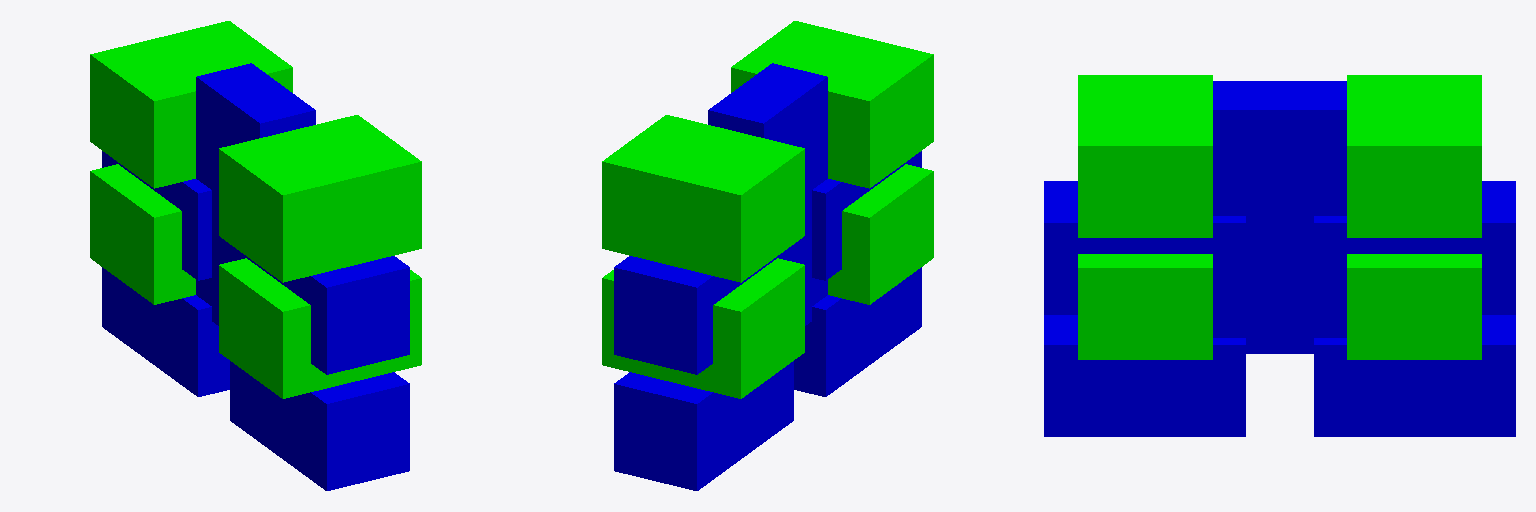
URDF robot description (robot):
<robot name = "robot">
    <link name="root">
        <inertial>
            <origin xyz="0.0 0.0 1.5" rpy="0 0 0"/>
            <mass value="1" />
            <inertia ixx="100" ixy="0" ixz="0" iyy="100" iyz="0" izz="100" />
        </inertial>
        <visual>
            <origin xyz="0.0 0.0 1.5" rpy="0 0 0"/>
            <geometry>
                <box size="0 0 0.0001" />
            </geometry>
            <material name="Green">
                <color rgba="0 1.0 0.0 1.0"/>
            </material>
        </visual>
        <collision>
            <origin xyz="0.0 0.0 1.5" rpy="0 0 0"/>
            <geometry>
                <box size="0 0 0.0001" />
            </geometry>
        </collision>
    </link>
    <joint name="root_000" type="revolute">
       <parent link="root"/>
       <child  link="000"/>
       <origin rpy="0 0 0" xyz="0.0 0.0 1.5" />
     <axis xyz="1 0 0"/>
       <limit effort="0.0" lower="-3.14159" upper="3.14159" velocity="0.0"/>
    </joint>
    <link name="000">
        <inertial>
            <origin xyz="0.0 0.0 -0.2" rpy="0 0 0"/>
            <mass value="1" />
            <inertia ixx="100" ixy="0" ixz="0" iyy="100" iyz="0" izz="100" />
        </inertial>
        <visual>
            <origin xyz="0.0 0.0 -0.2" rpy="0 0 0"/>
            <geometry>
                <box size="0.2 0.4 0.4" />
            </geometry>
            <material name="Blue">
                <color rgba="0 0.0 1.0 1.0"/>
            </material>
        </visual>
        <collision>
            <origin xyz="0.0 0.0 -0.2" rpy="0 0 0"/>
            <geometry>
                <box size="0.2 0.4 0.4" />
            </geometry>
        </collision>
    </link>
    <joint name="000_010" type="revolute">
       <parent link="000"/>
       <child  link="010"/>
       <origin rpy="0 0 0" xyz="0.0 0.0 -0.4" />
     <axis xyz="0 0 1"/>
       <limit effort="0.0" lower="-3.14159" upper="3.14159" velocity="0.0"/>
    </joint>
    <link name="010">
        <inertial>
            <origin xyz="0.0 0.0 -0.2" rpy="0 0 0"/>
            <mass value="1" />
            <inertia ixx="100" ixy="0" ixz="0" iyy="100" iyz="0" izz="100" />
        </inertial>
        <visual>
            <origin xyz="0.0 0.0 -0.2" rpy="0 0 0"/>
            <geometry>
                <box size="0.2 0.4 0.4" />
            </geometry>
            <material name="Blue">
                <color rgba="0 0.0 1.0 1.0"/>
            </material>
        </visual>
        <collision>
            <origin xyz="0.0 0.0 -0.2" rpy="0 0 0"/>
            <geometry>
                <box size="0.2 0.4 0.4" />
            </geometry>
        </collision>
    </link>
    <joint name="010_010-100" type="revolute">
       <parent link="010"/>
       <child  link="010-100"/>
       <origin rpy="0 0 0" xyz="0.0 0.2 -0.2" />
     <axis xyz="0 1 0"/>
       <limit effort="0.0" lower="-3.14159" upper="3.14159" velocity="0.0"/>
    </joint>
    <link name="010-100">
        <inertial>
            <origin xyz="0.0 0.2 -0.0" rpy="0 0 0"/>
            <mass value="1" />
            <inertia ixx="100" ixy="0" ixz="0" iyy="100" iyz="0" izz="100" />
        </inertial>
        <visual>
            <origin xyz="0.0 0.2 -0.0" rpy="0 0 0"/>
            <geometry>
                <box size="0.5 0.4 0.3" />
            </geometry>
            <material name="Green">
                <color rgba="0 1.0 0.0 1.0"/>
            </material>
        </visual>
        <collision>
            <origin xyz="0.0 0.2 -0.0" rpy="0 0 0"/>
            <geometry>
                <box size="0.5 0.4 0.3" />
            </geometry>
        </collision>
    </link>
    <joint name="010-100_010-100-200" type="revolute">
       <parent link="010-100"/>
       <child  link="010-100-200"/>
       <origin rpy="0 0 0" xyz="0.0 0.2 -0.15" />
     <axis xyz="0 0 1"/>
       <limit effort="0.0" lower="-3.14159" upper="3.14159" velocity="0.0"/>
    </joint>
    <link name="010-100-200">
        <inertial>
            <origin xyz="0.0 0.0 -0.15" rpy="0 0 0"/>
            <mass value="1" />
            <inertia ixx="100" ixy="0" ixz="0" iyy="100" iyz="0" izz="100" />
        </inertial>
        <visual>
            <origin xyz="0.0 0.0 -0.15" rpy="0 0 0"/>
            <geometry>
                <box size="0.3 0.6 0.3" />
            </geometry>
            <material name="Blue">
                <color rgba="0 0.0 1.0 1.0"/>
            </material>
        </visual>
        <collision>
            <origin xyz="0.0 0.0 -0.15" rpy="0 0 0"/>
            <geometry>
                <box size="0.3 0.6 0.3" />
            </geometry>
        </collision>
    </link>
    <joint name="010_010-101" type="revolute">
       <parent link="010"/>
       <child  link="010-101"/>
       <origin rpy="0 0 0" xyz="0.0 -0.2 -0.2" />
     <axis xyz="0 1 0"/>
       <limit effort="0.0" lower="-3.14159" upper="3.14159" velocity="0.0"/>
    </joint>
    <link name="010-101">
        <inertial>
            <origin xyz="0.0 -0.2 -0.0" rpy="0 0 0"/>
            <mass value="1" />
            <inertia ixx="100" ixy="0" ixz="0" iyy="100" iyz="0" izz="100" />
        </inertial>
        <visual>
            <origin xyz="0.0 -0.2 -0.0" rpy="0 0 0"/>
            <geometry>
                <box size="0.5 0.4 0.3" />
            </geometry>
            <material name="Green">
                <color rgba="0 1.0 0.0 1.0"/>
            </material>
        </visual>
        <collision>
            <origin xyz="0.0 -0.2 -0.0" rpy="0 0 0"/>
            <geometry>
                <box size="0.5 0.4 0.3" />
            </geometry>
        </collision>
    </link>
    <joint name="010-101_010-101-200" type="revolute">
       <parent link="010-101"/>
       <child  link="010-101-200"/>
       <origin rpy="0 0 0" xyz="0.0 -0.2 -0.15" />
     <axis xyz="0 0 1"/>
       <limit effort="0.0" lower="-3.14159" upper="3.14159" velocity="0.0"/>
    </joint>
    <link name="010-101-200">
        <inertial>
            <origin xyz="0.0 -0.0 -0.15" rpy="0 0 0"/>
            <mass value="1" />
            <inertia ixx="100" ixy="0" ixz="0" iyy="100" iyz="0" izz="100" />
        </inertial>
        <visual>
            <origin xyz="0.0 -0.0 -0.15" rpy="0 0 0"/>
            <geometry>
                <box size="0.3 0.6 0.3" />
            </geometry>
            <material name="Blue">
                <color rgba="0 0.0 1.0 1.0"/>
            </material>
        </visual>
        <collision>
            <origin xyz="0.0 -0.0 -0.15" rpy="0 0 0"/>
            <geometry>
                <box size="0.3 0.6 0.3" />
            </geometry>
        </collision>
    </link>
    <joint name="000_000-100" type="revolute">
       <parent link="000"/>
       <child  link="000-100"/>
       <origin rpy="0 0 0" xyz="0.0 0.2 -0.2" />
     <axis xyz="0 1 0"/>
       <limit effort="0.0" lower="-3.14159" upper="3.14159" velocity="0.0"/>
    </joint>
    <link name="000-100">
        <inertial>
            <origin xyz="0.0 0.2 -0.0" rpy="0 0 0"/>
            <mass value="1" />
            <inertia ixx="100" ixy="0" ixz="0" iyy="100" iyz="0" izz="100" />
        </inertial>
        <visual>
            <origin xyz="0.0 0.2 -0.0" rpy="0 0 0"/>
            <geometry>
                <box size="0.5 0.4 0.3" />
            </geometry>
            <material name="Green">
                <color rgba="0 1.0 0.0 1.0"/>
            </material>
        </visual>
        <collision>
            <origin xyz="0.0 0.2 -0.0" rpy="0 0 0"/>
            <geometry>
                <box size="0.5 0.4 0.3" />
            </geometry>
        </collision>
    </link>
    <joint name="000-100_000-100-200" type="revolute">
       <parent link="000-100"/>
       <child  link="000-100-200"/>
       <origin rpy="0 0 0" xyz="0.0 0.2 -0.15" />
     <axis xyz="0 0 1"/>
       <limit effort="0.0" lower="-3.14159" upper="3.14159" velocity="0.0"/>
    </joint>
    <link name="000-100-200">
        <inertial>
            <origin xyz="0.0 0.0 -0.15" rpy="0 0 0"/>
            <mass value="1" />
            <inertia ixx="100" ixy="0" ixz="0" iyy="100" iyz="0" izz="100" />
        </inertial>
        <visual>
            <origin xyz="0.0 0.0 -0.15" rpy="0 0 0"/>
            <geometry>
                <box size="0.3 0.6 0.3" />
            </geometry>
            <material name="Blue">
                <color rgba="0 0.0 1.0 1.0"/>
            </material>
        </visual>
        <collision>
            <origin xyz="0.0 0.0 -0.15" rpy="0 0 0"/>
            <geometry>
                <box size="0.3 0.6 0.3" />
            </geometry>
        </collision>
    </link>
    <joint name="000_000-101" type="revolute">
       <parent link="000"/>
       <child  link="000-101"/>
       <origin rpy="0 0 0" xyz="0.0 -0.2 -0.2" />
     <axis xyz="0 1 0"/>
       <limit effort="0.0" lower="-3.14159" upper="3.14159" velocity="0.0"/>
    </joint>
    <link name="000-101">
        <inertial>
            <origin xyz="0.0 -0.2 -0.0" rpy="0 0 0"/>
            <mass value="1" />
            <inertia ixx="100" ixy="0" ixz="0" iyy="100" iyz="0" izz="100" />
        </inertial>
        <visual>
            <origin xyz="0.0 -0.2 -0.0" rpy="0 0 0"/>
            <geometry>
                <box size="0.5 0.4 0.3" />
            </geometry>
            <material name="Green">
                <color rgba="0 1.0 0.0 1.0"/>
            </material>
        </visual>
        <collision>
            <origin xyz="0.0 -0.2 -0.0" rpy="0 0 0"/>
            <geometry>
                <box size="0.5 0.4 0.3" />
            </geometry>
        </collision>
    </link>
    <joint name="000-101_000-101-200" type="revolute">
       <parent link="000-101"/>
       <child  link="000-101-200"/>
       <origin rpy="0 0 0" xyz="0.0 -0.2 -0.15" />
     <axis xyz="0 0 1"/>
       <limit effort="0.0" lower="-3.14159" upper="3.14159" velocity="0.0"/>
    </joint>
    <link name="000-101-200">
        <inertial>
            <origin xyz="0.0 -0.0 -0.15" rpy="0 0 0"/>
            <mass value="1" />
            <inertia ixx="100" ixy="0" ixz="0" iyy="100" iyz="0" izz="100" />
        </inertial>
        <visual>
            <origin xyz="0.0 -0.0 -0.15" rpy="0 0 0"/>
            <geometry>
                <box size="0.3 0.6 0.3" />
            </geometry>
            <material name="Blue">
                <color rgba="0 0.0 1.0 1.0"/>
            </material>
        </visual>
        <collision>
            <origin xyz="0.0 -0.0 -0.15" rpy="0 0 0"/>
            <geometry>
                <box size="0.3 0.6 0.3" />
            </geometry>
        </collision>
    </link>
</robot>

--- What the picture shows (computed from the rendered views, not written in the file) ---
3 views of the same robot in one strip: view 1: azimuth 30°, elevation 25°; view 2: azimuth 150°, elevation 25°; view 3: azimuth 270°, elevation 25° (orthographic).
Robot: robot — 11 links, 10 joints (10 revolute); root link root; default pose: all joints at 0.
Links seen in each view (by area): view 1: [phone redacted] (×4), 000-101, 000-100, 010-101, 010-100, 000, 010; view 2: [phone redacted] (×4), 000-100, 000-101, 010-100, 010-101, 000, 010; view 3: [phone redacted] (×4), 000-100, 000-101, 000, 010-100, 010-101, 010.
Boxes of the visible links, x1,y1,x2,y2 form: [phone redacted] (×4): (102,151,409,490); 000-101: (219,115,421,282); 000-100: (90,21,292,188); 010-101: (219,258,421,398); 010-100: (90,164,195,304); 000: (196,63,315,209); 010: (196,205,229,325); [phone redacted] (×4): (614,151,921,490); 000-100: (602,115,804,282); 000-101: (731,21,933,188); 010-100: (602,258,804,398); 010-101: (828,164,933,304); 000: (708,63,827,209); 010: (794,205,827,325); [phone redacted] (×4): (1044,181,1515,436); 000-100: (1347,75,1481,237); 000-101: (1078,75,1212,237); 000: (1213,81,1346,231); 010-100: (1347,254,1481,359); 010-101: (1078,254,1212,359); 010: (1213,232,1346,353).
Size in the robot's own frame: 0.5 by 1.4 by 1.05 metres.
Geometry: primitives only (box / cylinder / sphere), no mesh files.
